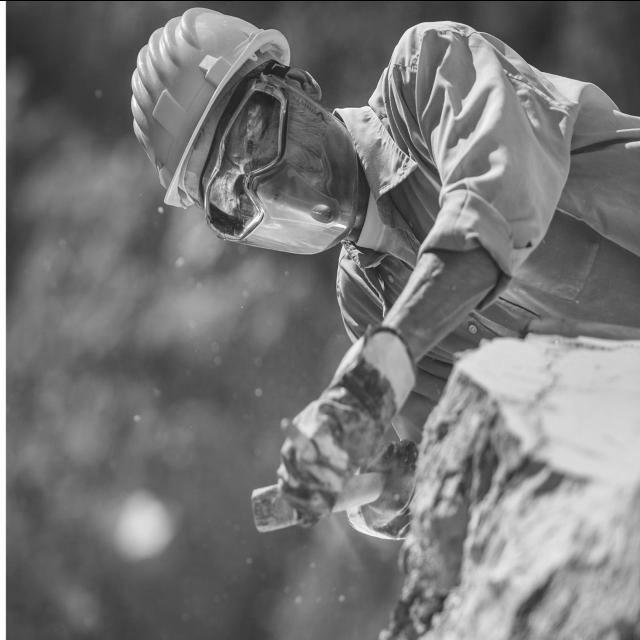construction helmet: (131, 6, 294, 208)
